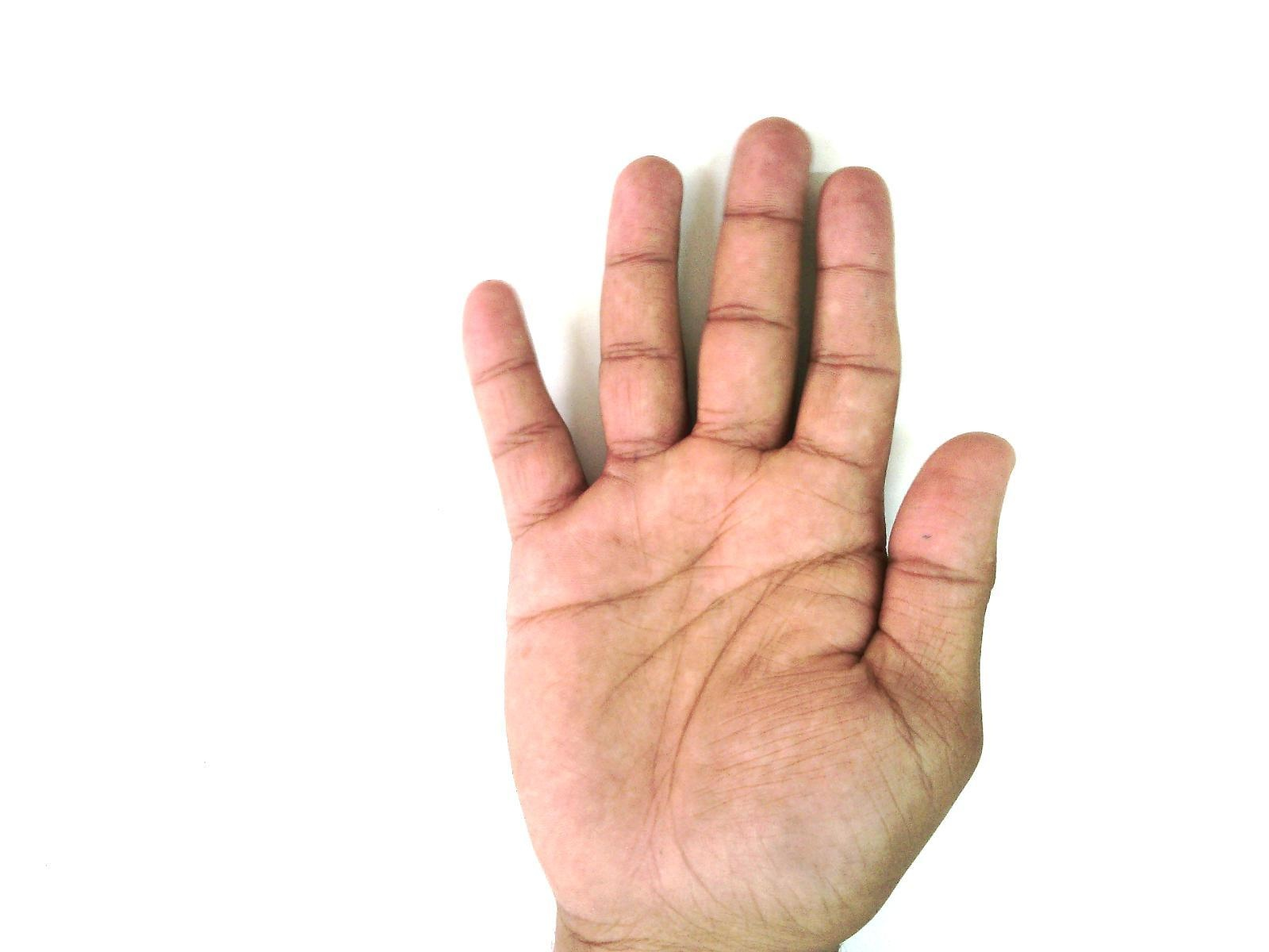open_palm: (458, 116, 1018, 950)
